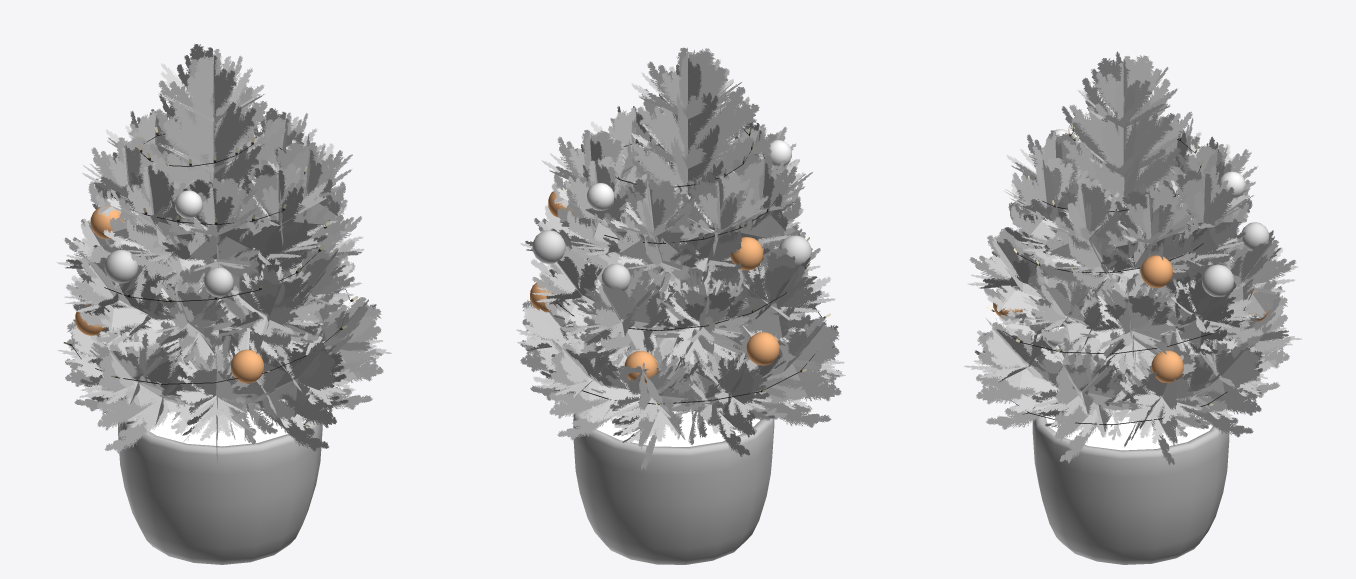
File: elka_small.fbx
3 renders of one model, left to right at view 1: azimuth 30°, elevation 25°; view 2: azimuth 150°, elevation 25°; view 3: azimuth 270°, elevation 25°, orthographic. The views are drawn at different scales.
Visible parts, largest first — view 1: Plane.006, Vert.011, Sphere.084, Sphere.085, Vert.013, Sphere.088, Sphere.087, girlanda2.007, Sphere.089; view 2: Plane.006, Vert.011, Sphere.083, Sphere.093, Vert.013, Sphere.089, Sphere.085, Sphere.092, Sphere.094, Sphere.096; view 3: Plane.006, Vert.011, Sphere.093, Sphere.097, Sphere.090, Vert.013, Sphere.096.
Part boxes in pixels (bbox=[...]): Plane.006: bbox=[56, 44, 391, 463]; Vert.011: bbox=[118, 406, 322, 564]; Sphere.084: bbox=[231, 349, 263, 383]; Sphere.085: bbox=[104, 250, 137, 283]; Vert.013: bbox=[72, 133, 350, 423]; Sphere.088: bbox=[204, 267, 233, 296]; Sphere.087: bbox=[175, 190, 202, 218]; girlanda2.007: bbox=[63, 127, 358, 427]; Sphere.089: bbox=[90, 205, 123, 238]; Plane.006: bbox=[516, 47, 845, 470]; Vert.011: bbox=[573, 409, 774, 564]; Sphere.083: bbox=[746, 332, 779, 365]; Sphere.093: bbox=[532, 230, 565, 263]; Vert.013: bbox=[551, 128, 821, 404]; Sphere.089: bbox=[730, 237, 763, 270]; Sphere.085: bbox=[779, 235, 811, 267]; Sphere.092: bbox=[624, 351, 657, 383]; Sphere.094: bbox=[587, 183, 614, 210]; Sphere.096: bbox=[601, 264, 630, 290]; Plane.006: bbox=[964, 51, 1301, 465]; Vert.011: bbox=[1032, 409, 1229, 564]; Sphere.093: bbox=[1202, 264, 1233, 297]; Sphere.097: bbox=[1140, 255, 1172, 287]; Sphere.090: bbox=[1151, 350, 1183, 382]; Vert.013: bbox=[994, 130, 1255, 424]; Sphere.096: bbox=[1241, 222, 1269, 250].
Bounding box in the file's own units: 171 × 223 × 174.
